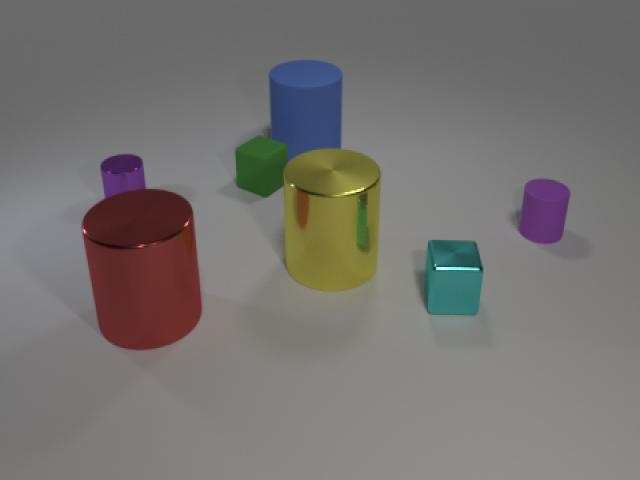cylinder: (78, 184, 210, 356), (278, 142, 385, 296), (261, 54, 349, 174), (514, 168, 574, 255), (94, 149, 150, 214)
